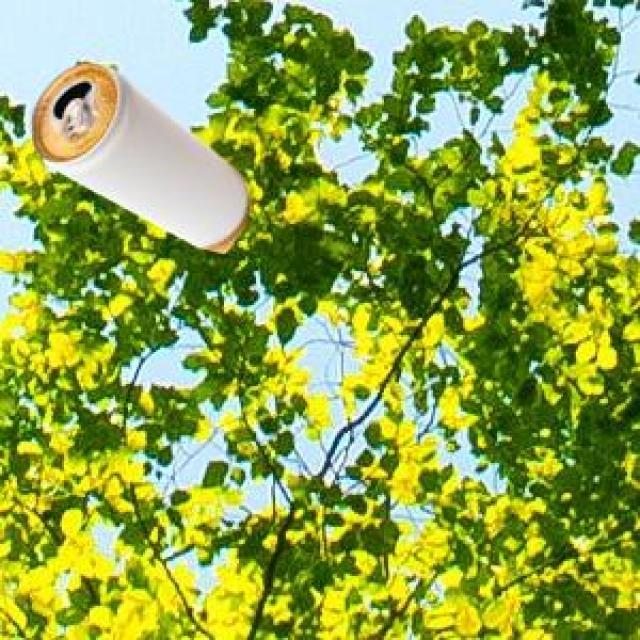Can: (29, 61, 246, 251)
